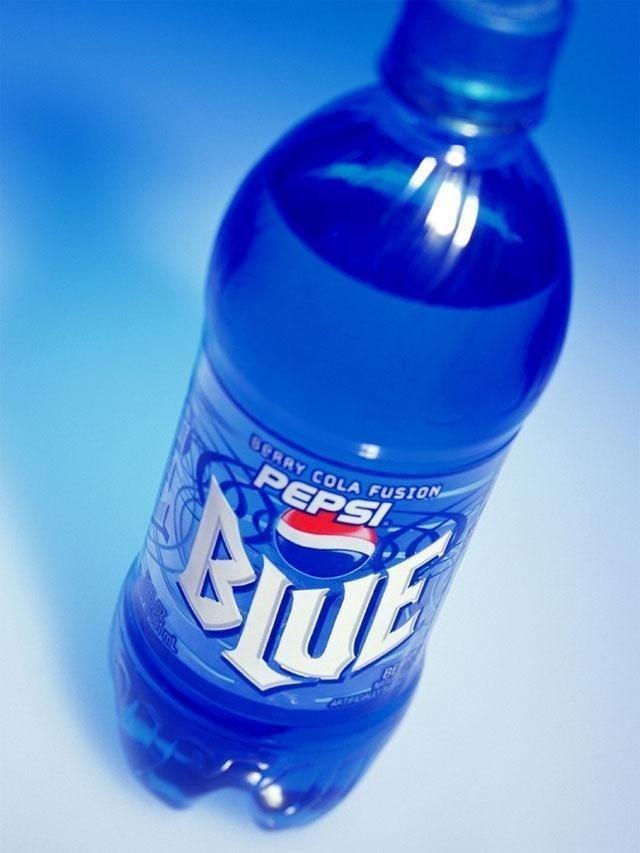bottle-plastic: (107, 1, 579, 831)
